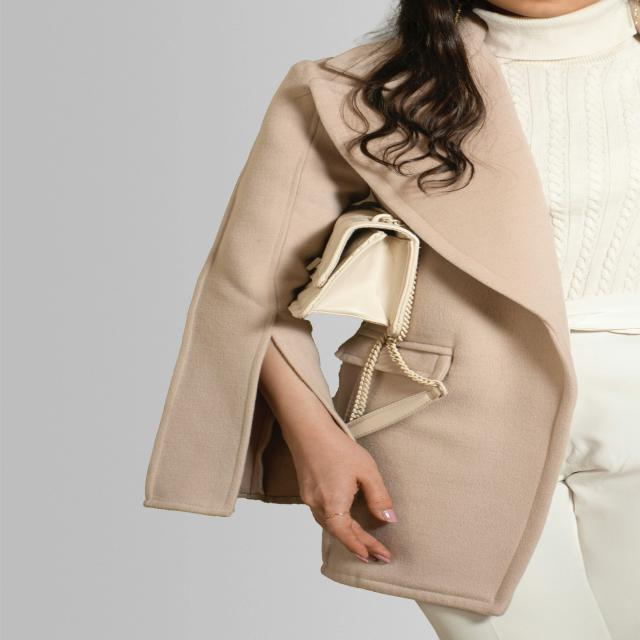bolsa: (284, 191, 462, 421)
